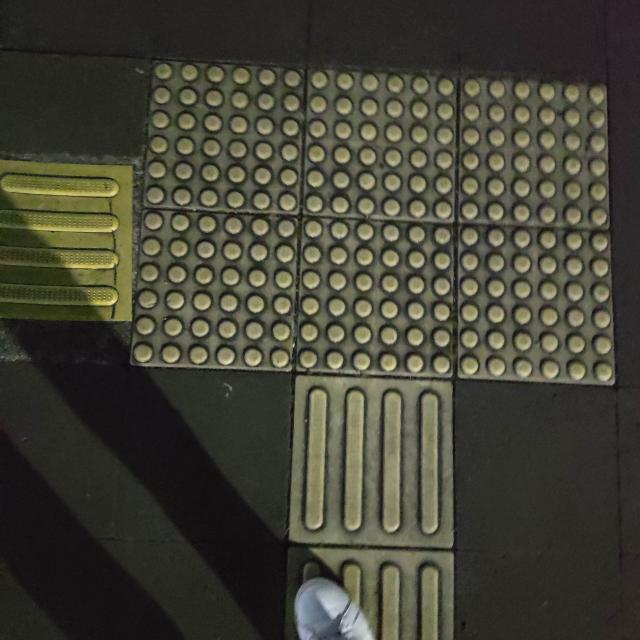kiri: (0, 101, 528, 565)
